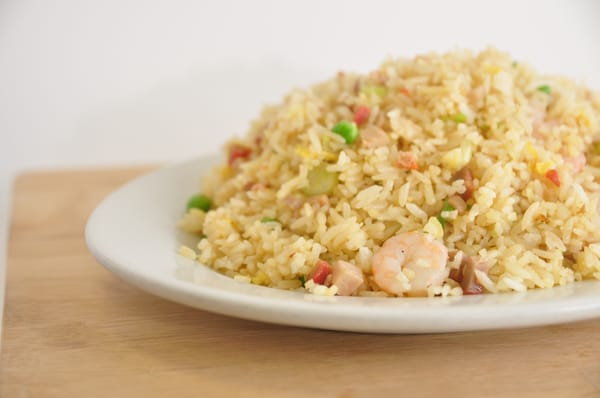sushi: (86, 41, 600, 336)
